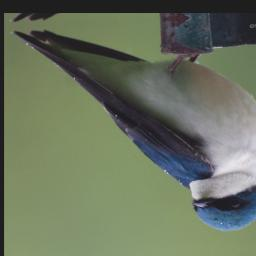Swallow: (12, 15, 256, 242)
